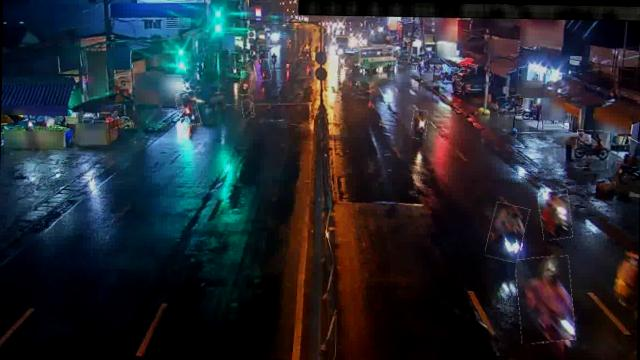Bike: (516, 255, 574, 343), (487, 202, 527, 261), (538, 189, 572, 239), (576, 129, 610, 168), (176, 91, 200, 126), (497, 95, 522, 116), (410, 109, 428, 138), (253, 59, 270, 81), (241, 94, 254, 117), (240, 70, 252, 94)
